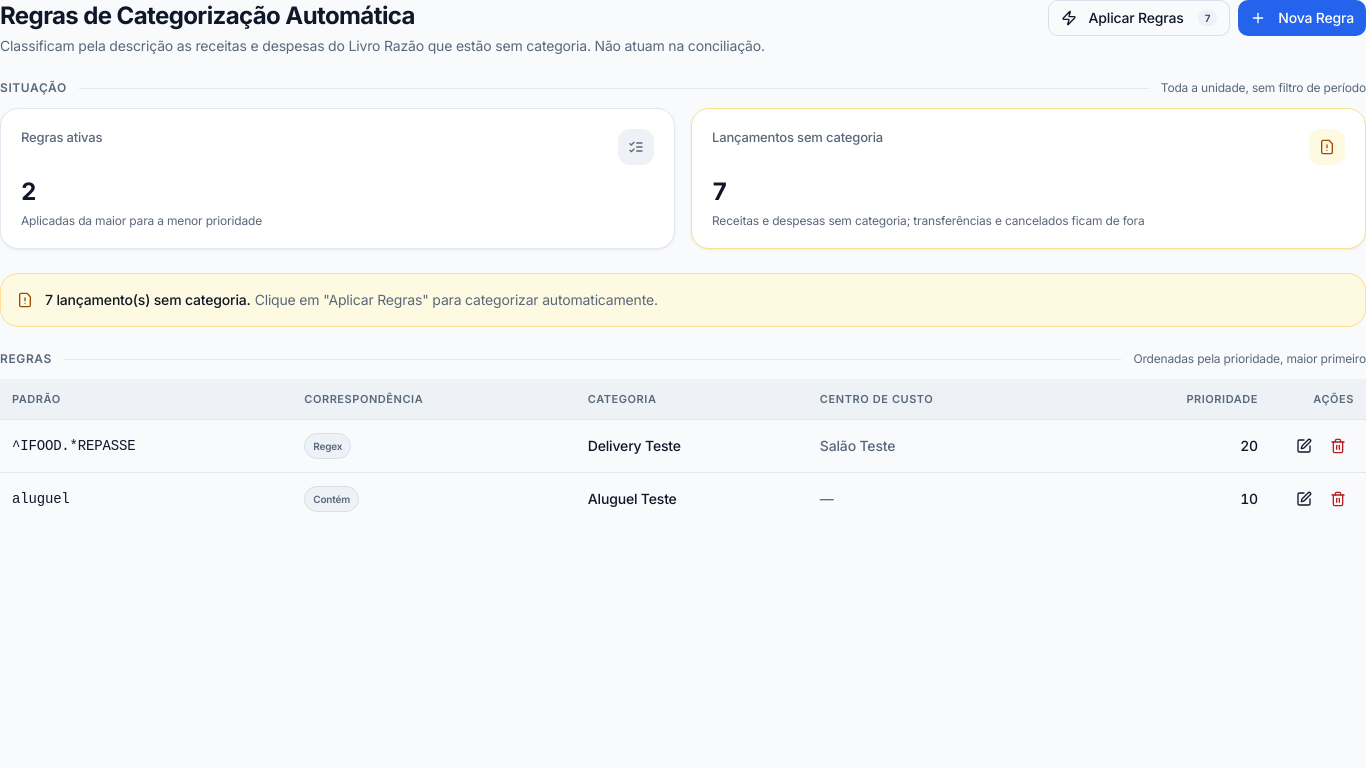
Categorização (V2) › prévia de regra com categoria manda a categoria (só o tipo dela)
Click the button named "Editar regra aluguel": (1304,498) [1288,482,1320,514]
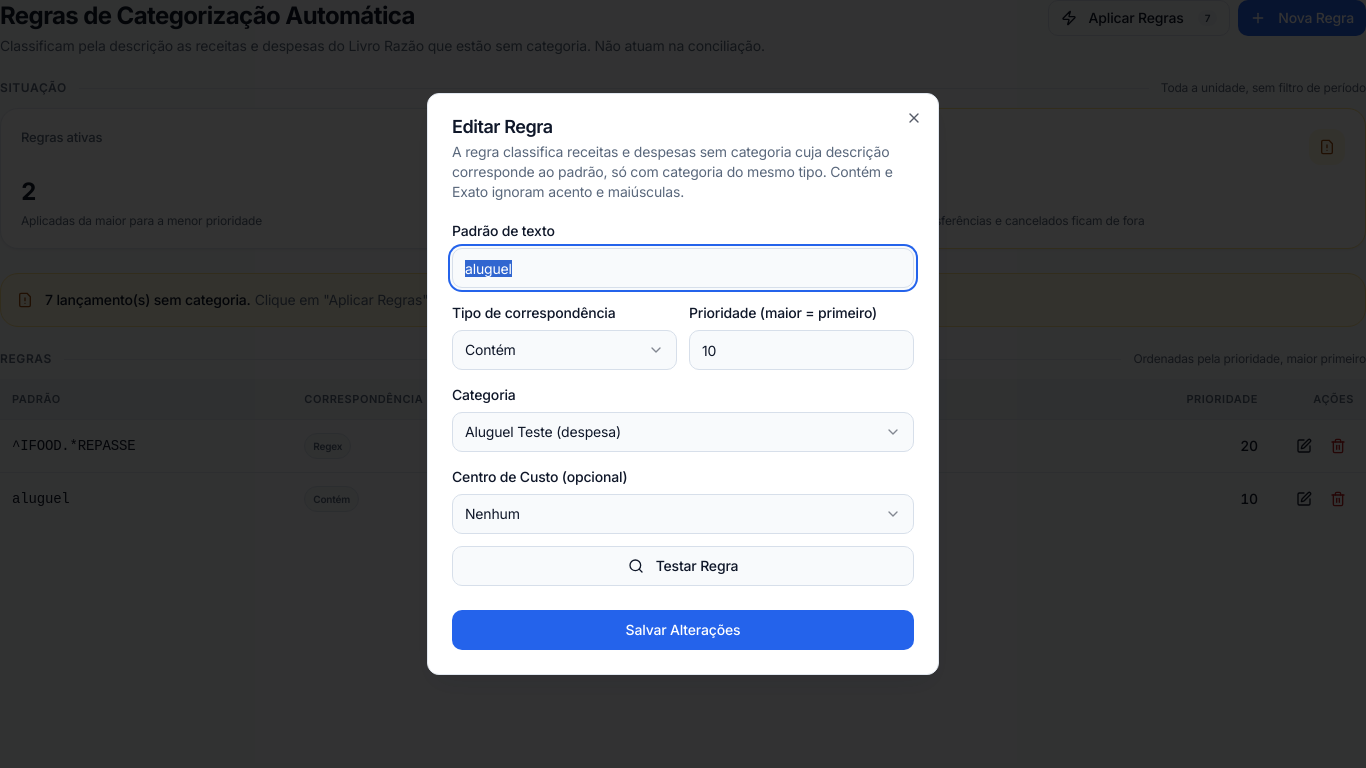
Click the button "Testar Regra": (683,566) [452,546,914,586]
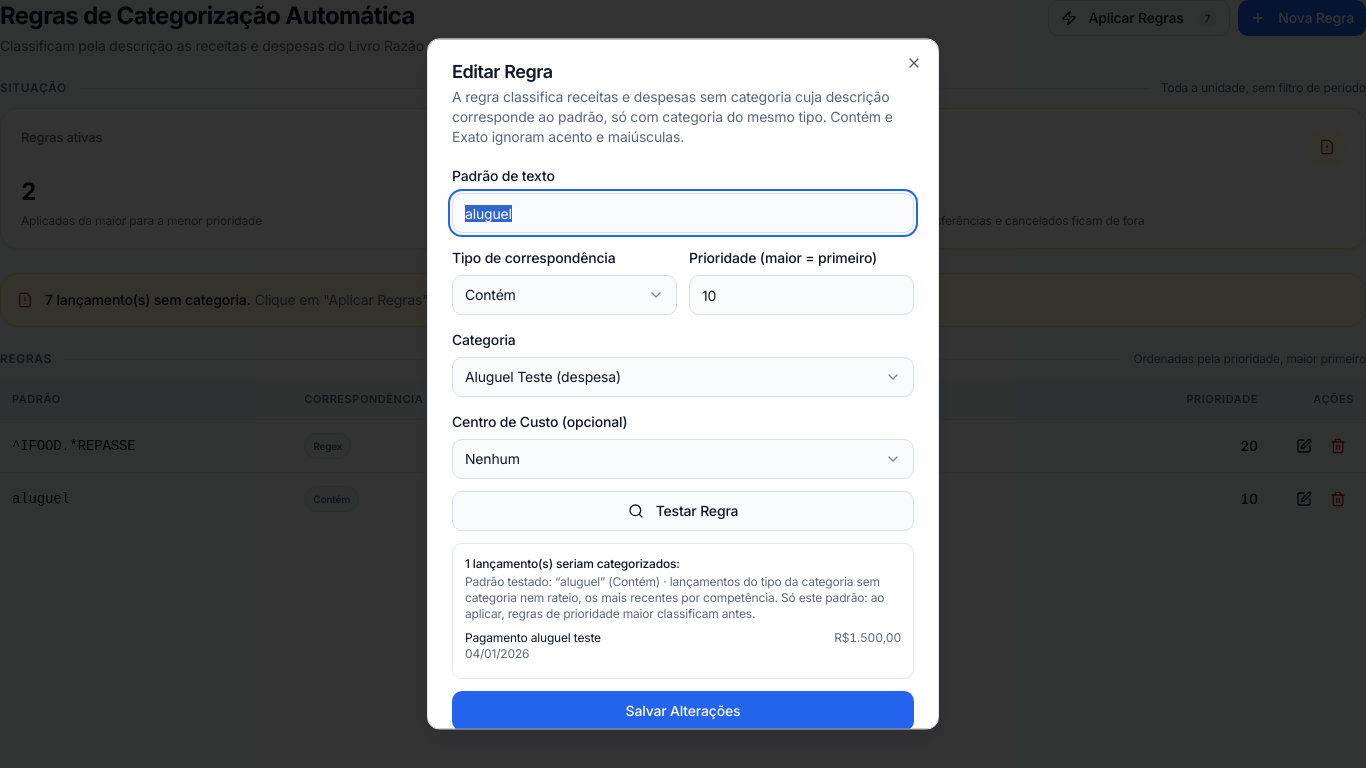
Expected: the text "lançamentos do tipo da categoria sem categoria nem rateio" is shown, [465,574,901,622]
